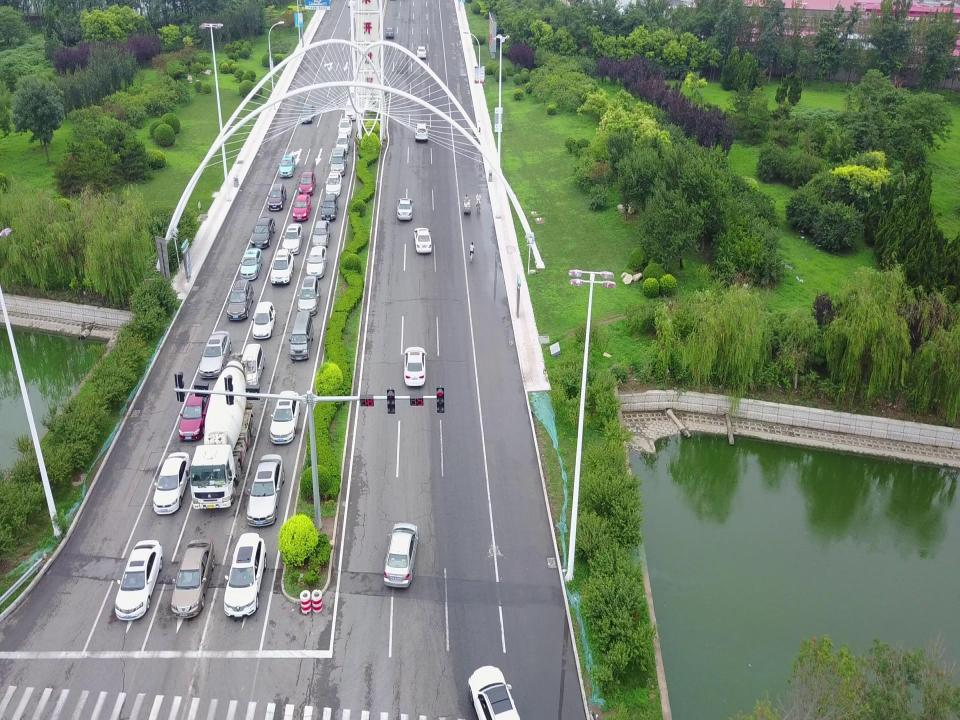car: (115, 540, 163, 621), (223, 532, 267, 619), (170, 539, 214, 619), (247, 453, 285, 527), (468, 666, 520, 720), (152, 452, 192, 515), (384, 523, 419, 588), (178, 390, 212, 441), (270, 390, 300, 444), (199, 331, 232, 378), (226, 279, 254, 320), (403, 347, 427, 386), (297, 276, 321, 315), (252, 301, 276, 339), (270, 248, 294, 284), (251, 216, 275, 249), (305, 245, 327, 279), (239, 248, 263, 279), (281, 223, 303, 255), (292, 194, 312, 221), (268, 182, 286, 210), (320, 193, 338, 221), (312, 221, 330, 248), (414, 228, 432, 253), (298, 172, 316, 195), (325, 172, 342, 195), (279, 155, 295, 178), (397, 198, 413, 220), (335, 133, 350, 154), (300, 104, 316, 123), (338, 118, 352, 137), (414, 123, 428, 142), (385, 27, 394, 38), (417, 47, 426, 58), (347, 0, 356, 7)
truck: (186, 352, 254, 510)
van: (288, 312, 314, 360), (238, 344, 265, 388), (330, 148, 347, 176), (344, 97, 357, 121)
